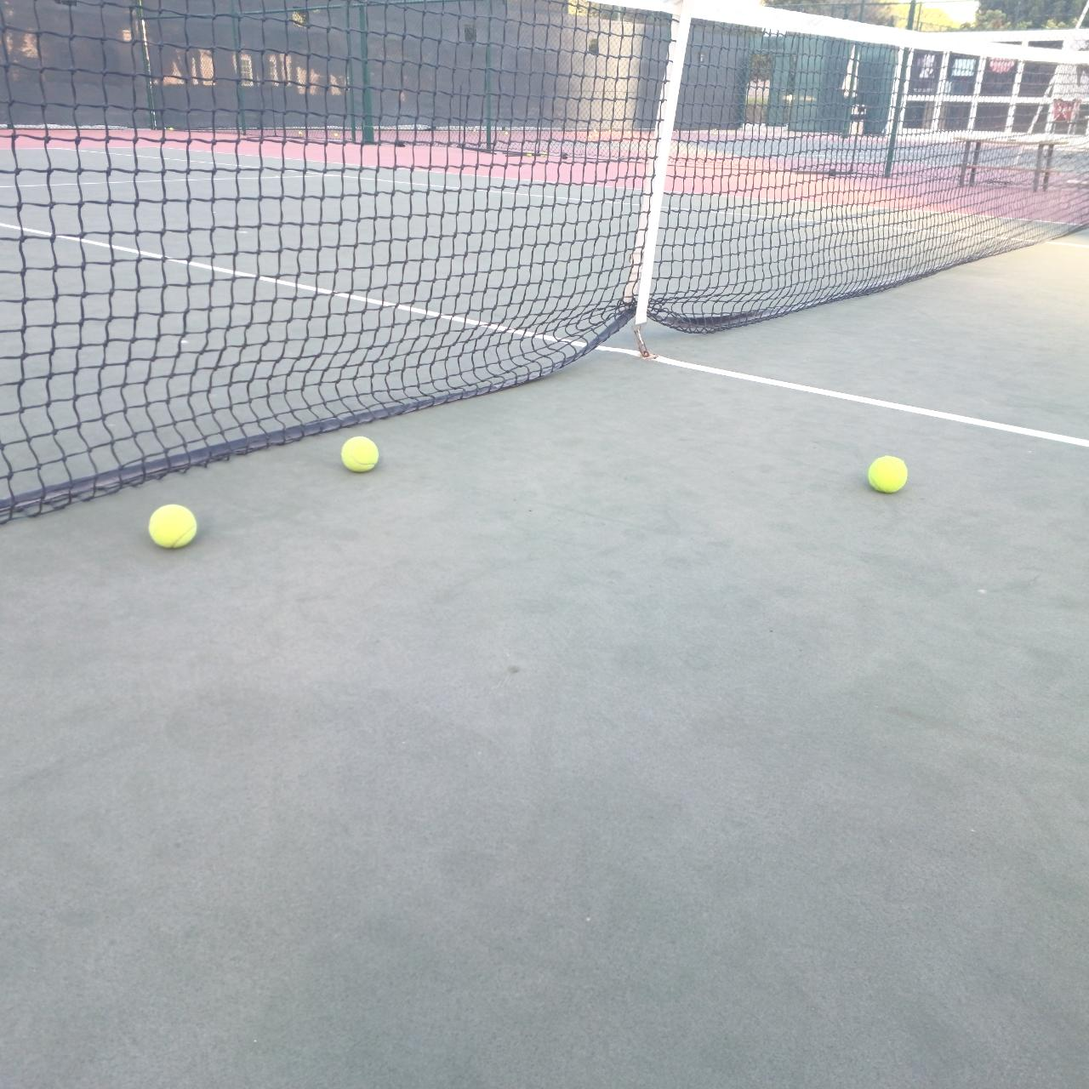tennis-ball: (147, 500, 200, 550), (867, 452, 910, 493), (340, 433, 382, 473)
